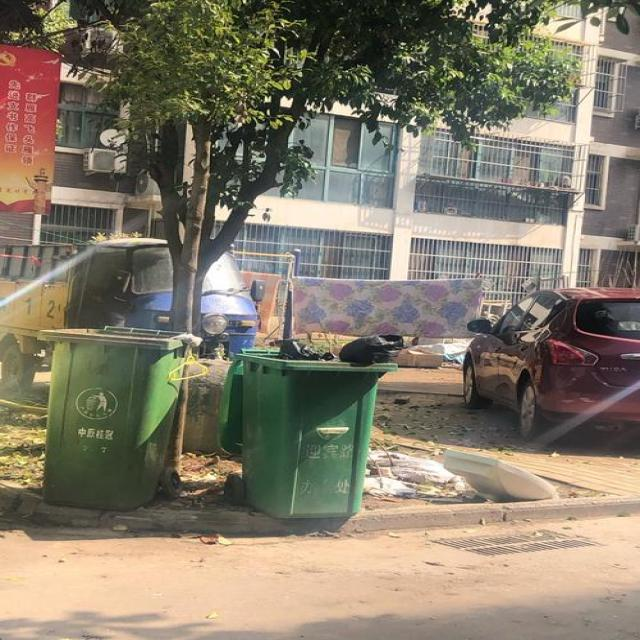garbage_bin: (35, 323, 188, 510)
overflow: (216, 332, 400, 517)
